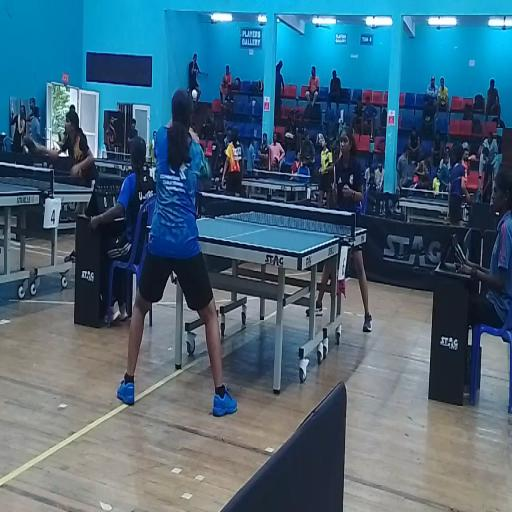ball: (192, 91, 198, 100)
